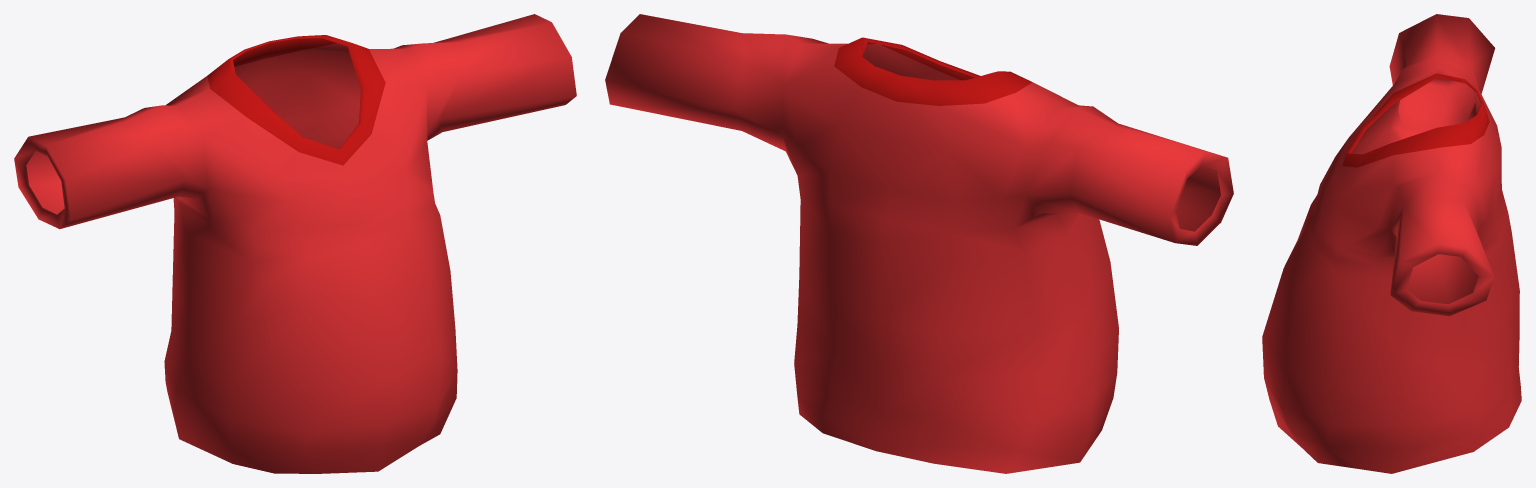
File: Shirt_Griffin02.fbx
3 renders of one model, left to right at view 1: azimuth 30°, elevation 25°; view 2: azimuth 150°, elevation 25°; view 3: azimuth 270°, elevation 25°, orthographic. The views are drawn at different scales.
Visible parts, largest first — view 1: Shirt_Griffin02; view 2: Shirt_Griffin02; view 3: Shirt_Griffin02.
Boxes of the visible parts, <box> form: Shirt_Griffin02: <box>14,14,576,473</box>; Shirt_Griffin02: <box>605,14,1233,473</box>; Shirt_Griffin02: <box>1262,14,1521,473</box>.
Size of the model in its own units: 88.63 by 58.77 by 42.45.
